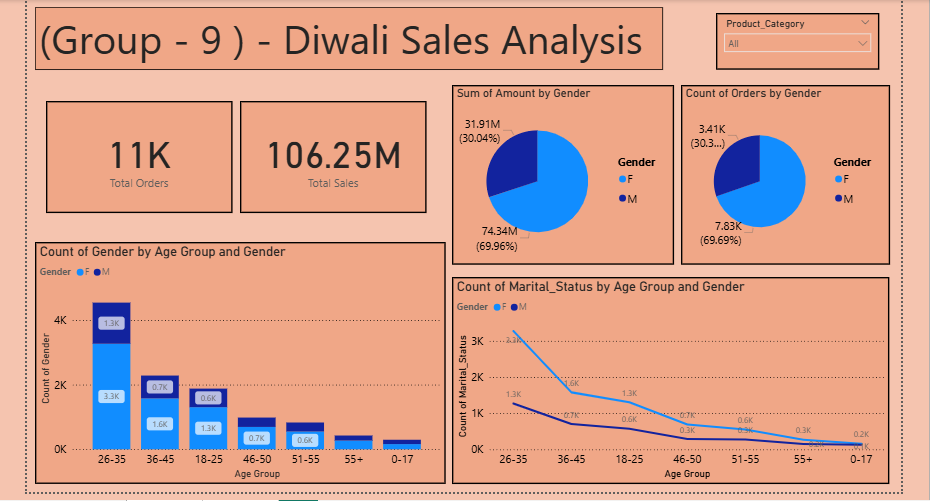

What the dashboard file says about the page in this screenshot:
{"tool":"powerbi","page":{"name":"Page 1","canvas":[1280,720],"ordinal":0},"visuals":[{"type":"pieChart","fields":{"Category":["Diwali Sales Data 1.Gender"],"Y":["CountNonNull(Diwali Sales Data 1.Orders)"]},"box":[956.6,123.9,305.5,262.9],"z":0},{"type":"pieChart","fields":{"Y":["Sum(Diwali Sales Data 1.Amount)"],"Category":["Diwali Sales Data 1.Gender"]},"box":[622.1,123.9,324.8,262.9],"z":1000},{"type":"lineStackedColumnComboChart","fields":{"Category":["Diwali Sales Data 1.Age Group"],"Y":["CountNonNull(Diwali Sales Data 1.Gender)"],"Series":["Diwali Sales Data 1.Gender"]},"box":[11,353.7,601.5,353.7],"z":2000},{"type":"card","fields":{"Values":["Diwali Sales Data 1.Total Sales"]},"box":[312.4,147.3,272.5,163.8],"z":3000},{"type":"lineChart","fields":{"Category":["Diwali Sales Data 1.Age Group"],"Series":["Diwali Sales Data 1.Gender"],"Y":["CountNonNull(Diwali Sales Data 1.Marital_Status)"]},"box":[622.1,404.6,640,302.8],"z":4000},{"type":"textbox","box":[11,9.6,919.4,92.2],"z":5000},{"type":"card","fields":{"Values":["Diwali Sales Data 1.Total Orders"]},"box":[27.5,147.3,272.5,163.8],"z":6000},{"type":"slicer","fields":{"Values":["Diwali Sales Data 1.Product_Category"]},"box":[1008.9,19.3,239.5,82.6],"z":7000}]}

Visuals, with their boxes in screenshot pixels (x1, y1, x2, y2):
pieChart - Diwali Sales Data 1.Gender x CountNonNull(Diwali Sales Data 1.Orders): {"x1": 679, "y1": 83, "x2": 888, "y2": 263}
pieChart - Sum(Diwali Sales Data 1.Amount) x Diwali Sales Data 1.Gender: {"x1": 449, "y1": 83, "x2": 672, "y2": 263}
lineStackedColumnComboChart - Diwali Sales Data 1.Age Group x CountNonNull(Diwali Sales Data 1.Gender): {"x1": 29, "y1": 240, "x2": 442, "y2": 483}
card - Diwali Sales Data 1.Total Sales: {"x1": 236, "y1": 99, "x2": 423, "y2": 211}
lineChart - Diwali Sales Data 1.Age Group x Diwali Sales Data 1.Gender: {"x1": 449, "y1": 275, "x2": 888, "y2": 483}
textbox: {"x1": 29, "y1": 4, "x2": 661, "y2": 67}
card - Diwali Sales Data 1.Total Orders: {"x1": 41, "y1": 99, "x2": 228, "y2": 211}
slicer - Diwali Sales Data 1.Product_Category: {"x1": 715, "y1": 11, "x2": 879, "y2": 68}
